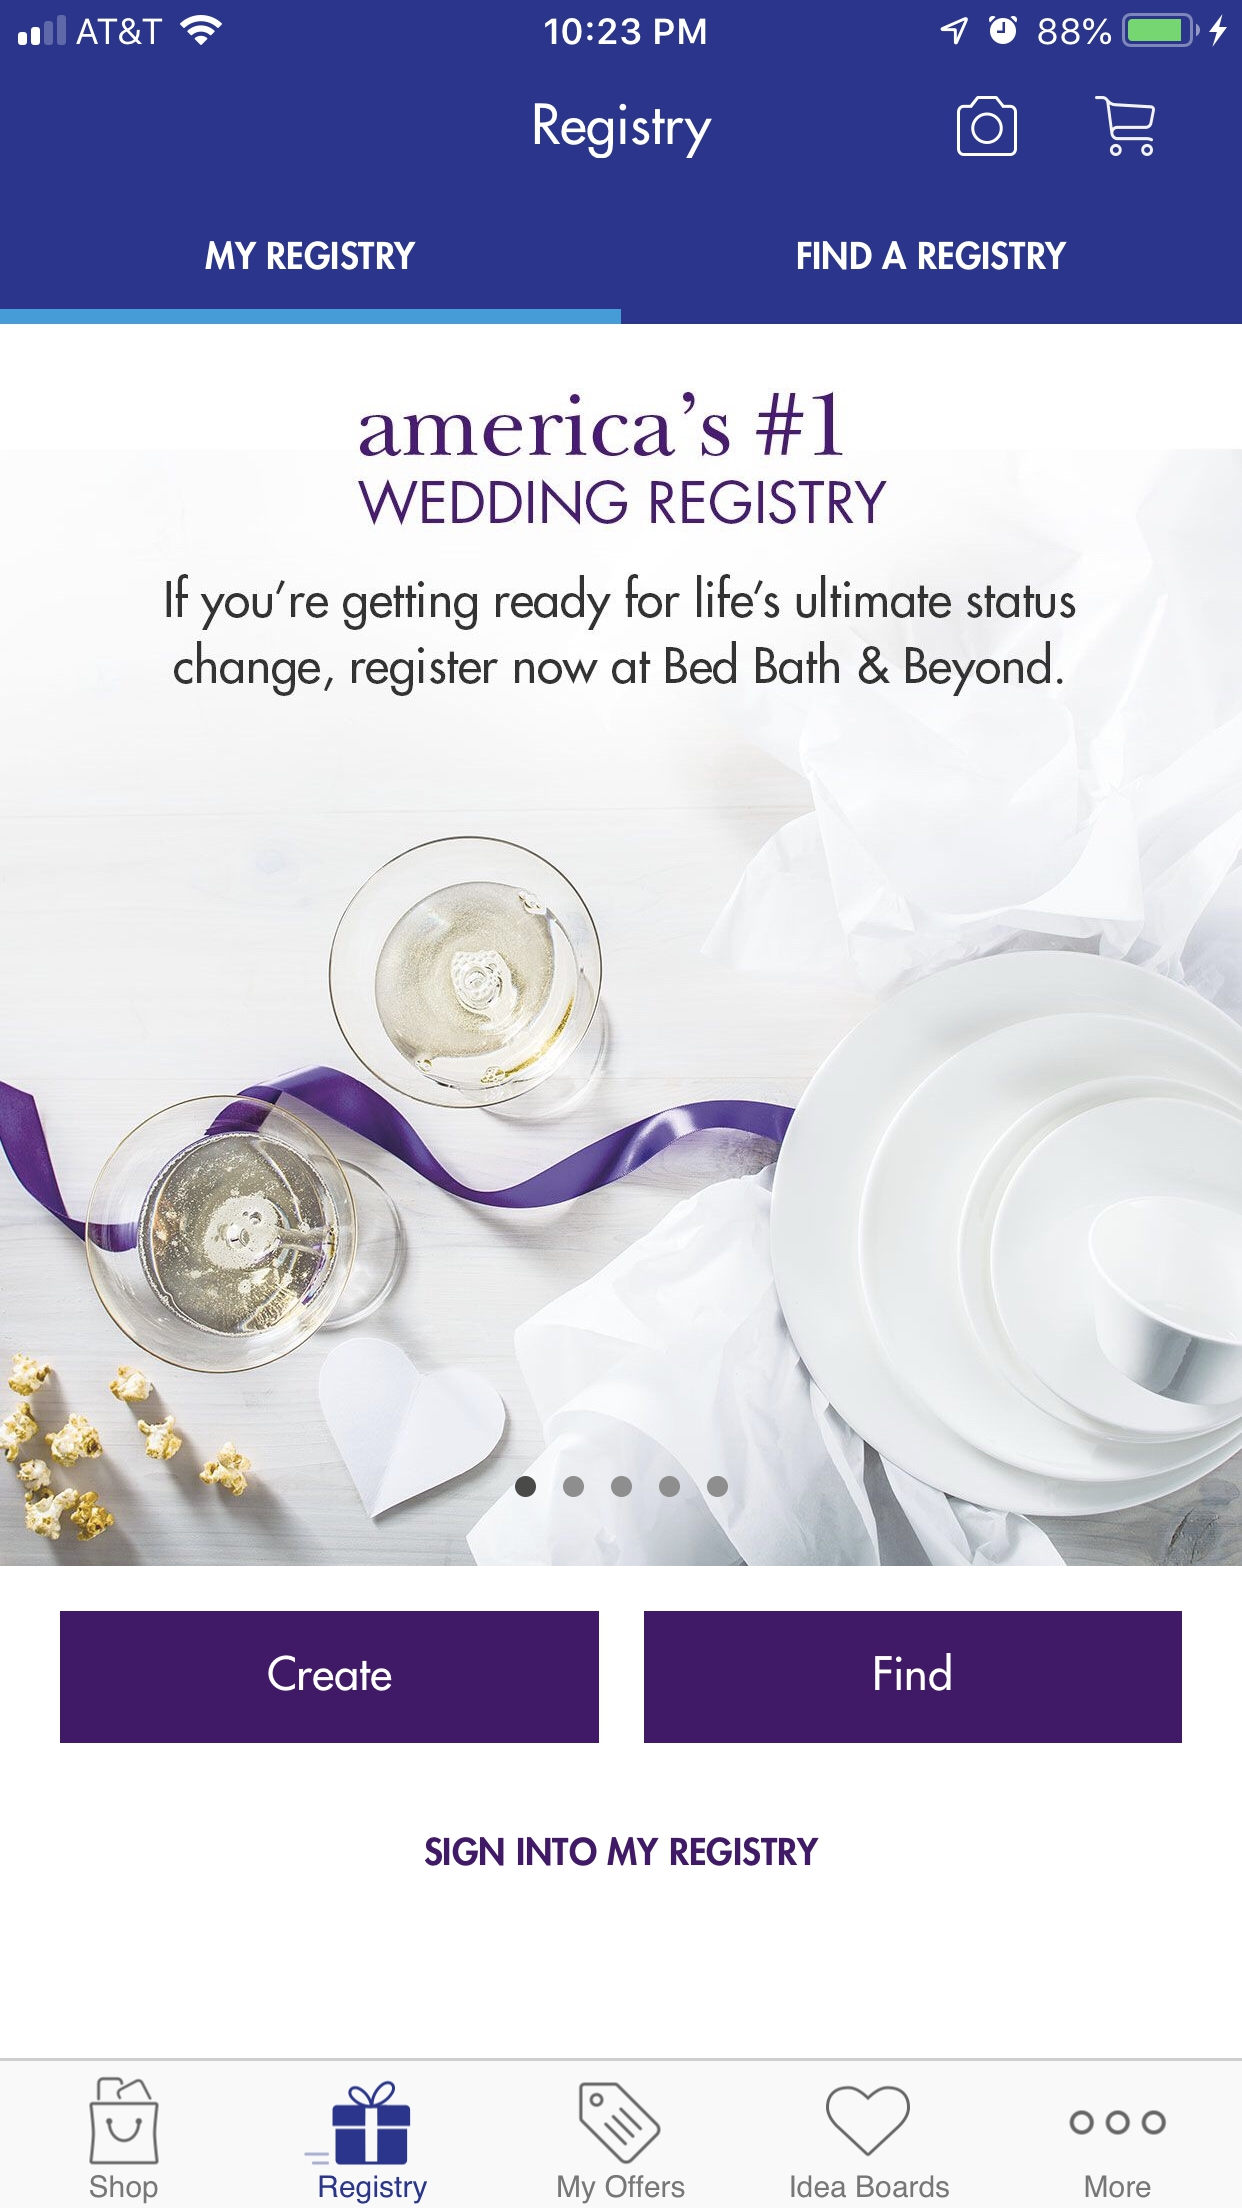Icon: (305, 2081, 412, 2166), (579, 2082, 663, 2166), (89, 2076, 161, 2166), (825, 2085, 911, 2156), (1093, 96, 1156, 158), (955, 96, 1018, 158), (1068, 2109, 1168, 2137)
Image: (2, 450, 1242, 1567)
PageIndicator: (514, 1476, 729, 1498)
Text: (165, 575, 1077, 698), (358, 391, 889, 528), (425, 1836, 820, 1867), (534, 103, 713, 161), (798, 241, 1068, 271), (205, 241, 417, 271), (792, 2175, 949, 2199), (558, 2175, 685, 2203), (318, 2173, 429, 2203), (89, 2175, 159, 2203), (1084, 2175, 1151, 2197)
TextButton: (61, 1611, 601, 1744), (645, 1611, 1183, 1744)
UpperTaskBar: (2, 2, 1242, 49)
